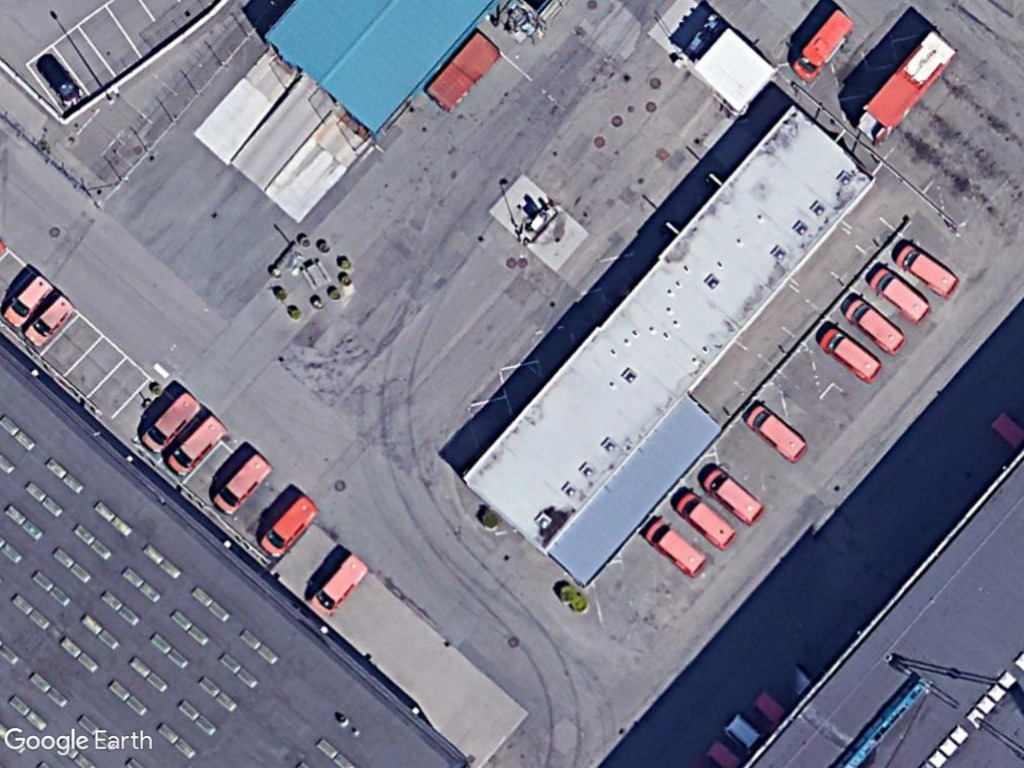van: (788, 6, 855, 86), (255, 490, 325, 561), (303, 547, 371, 620), (740, 400, 812, 466), (138, 388, 204, 458), (211, 449, 276, 519), (643, 517, 713, 582), (163, 412, 229, 480), (671, 488, 740, 552), (843, 294, 909, 359), (819, 324, 884, 389), (702, 464, 766, 528), (866, 264, 933, 325), (893, 243, 962, 301), (2, 270, 56, 332), (21, 292, 76, 350)
